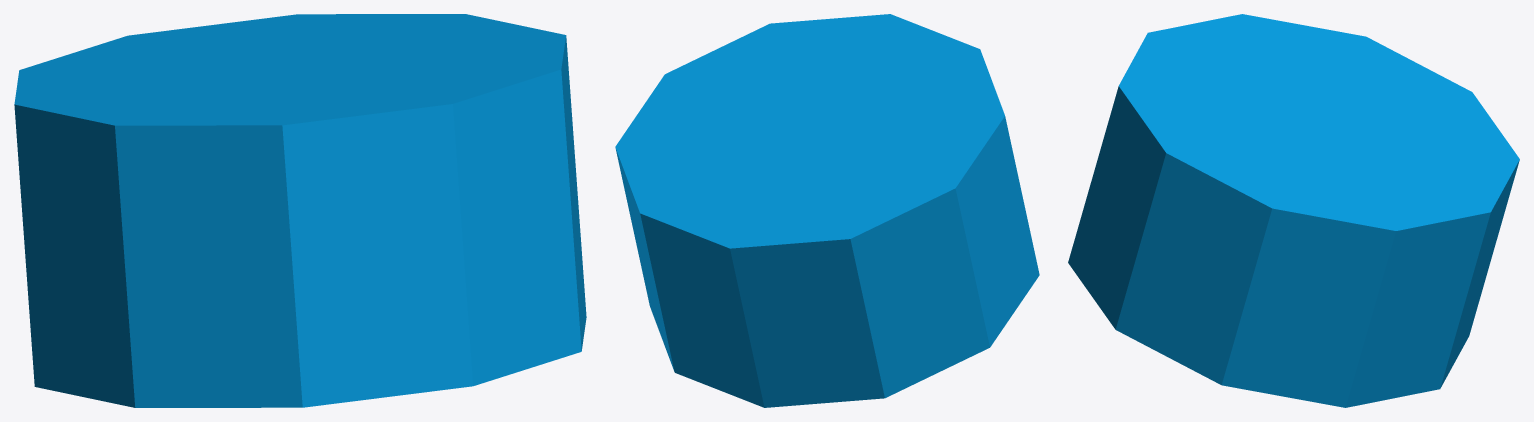
File: group532001670_lev3.002.glb
3 renders of one model, left to right at view 1: azimuth 30°, elevation 25°; view 2: azimuth 150°, elevation 25°; view 3: azimuth 270°, elevation 25°, orthographic. The views are drawn at different scales.
Parts seen in each view (by area): view 1: group532001670_lev3.002; view 2: group532001670_lev3.002; view 3: group532001670_lev3.002.
Boxes of the visible parts, bbox=[...] form: group532001670_lev3.002: bbox=[14, 14, 586, 407]; group532001670_lev3.002: bbox=[615, 14, 1039, 407]; group532001670_lev3.002: bbox=[1068, 14, 1519, 407].
Bounding box in the file's own units: 0.5515 × 0.3977 × 0.5983.
